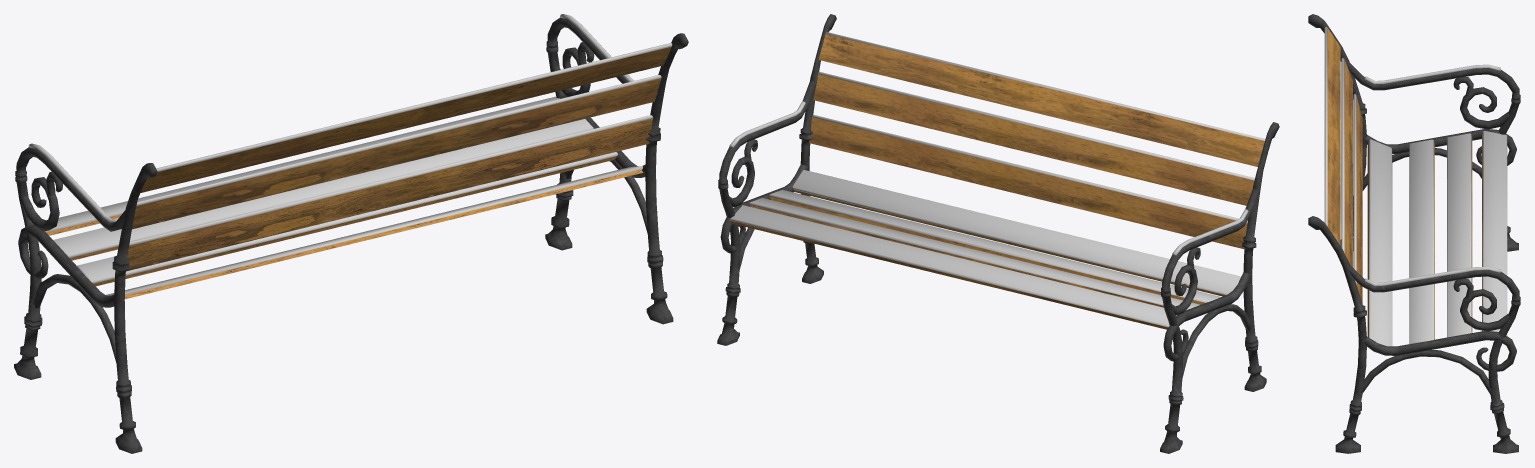
The model's file is bench.fbx.
The picture shows the model from 3 angles, left to right: view 1: azimuth 30°, elevation 25°; view 2: azimuth 150°, elevation 25°; view 3: azimuth 270°, elevation 25°; orthographic projection. The views are drawn at different scales.
Parts seen in each view (by area): view 1: Cube.085; view 2: Cube.085; view 3: Cube.085.
Boxes of the visible parts, bbox=[...] form: Cube.085: bbox=[14, 14, 688, 453]; Cube.085: bbox=[717, 14, 1279, 453]; Cube.085: bbox=[1308, 14, 1520, 453].
Bounding box in the file's own units: 226 × 117 × 96.54.
